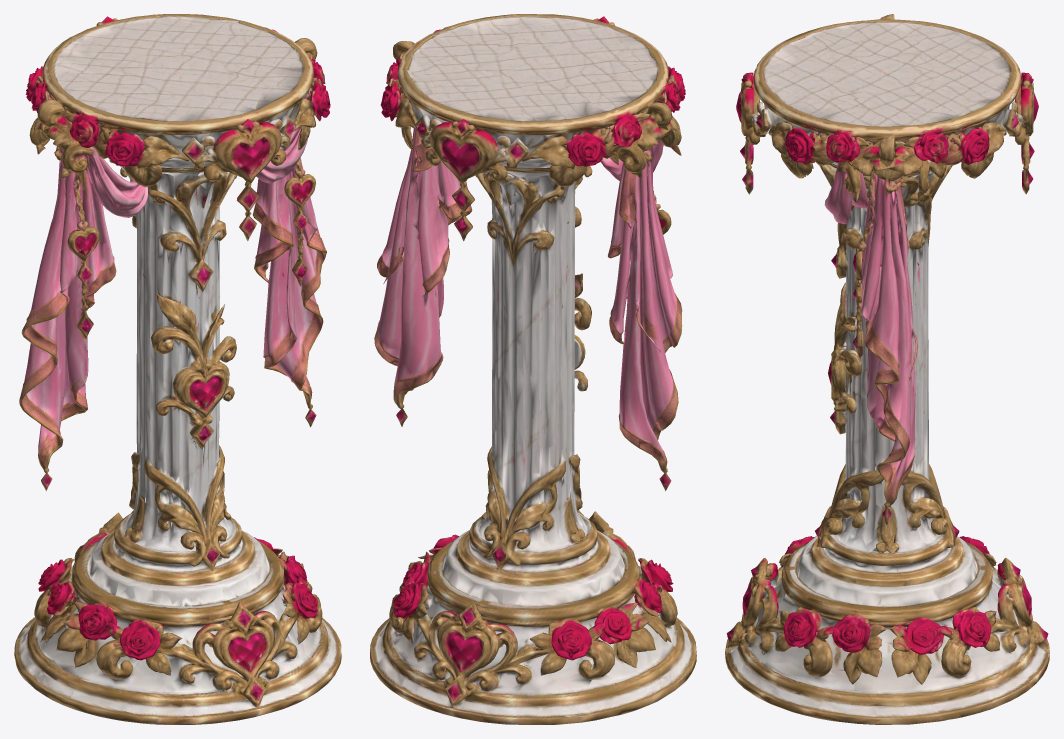
The model's file is podium.glb.
3 renders of one model, left to right at view 1: azimuth 30°, elevation 25°; view 2: azimuth 150°, elevation 25°; view 3: azimuth 270°, elevation 25°, orthographic.
Size of the model in its own units: 1.03 by 1.9 by 0.9594.
1 material, 1 textured.
